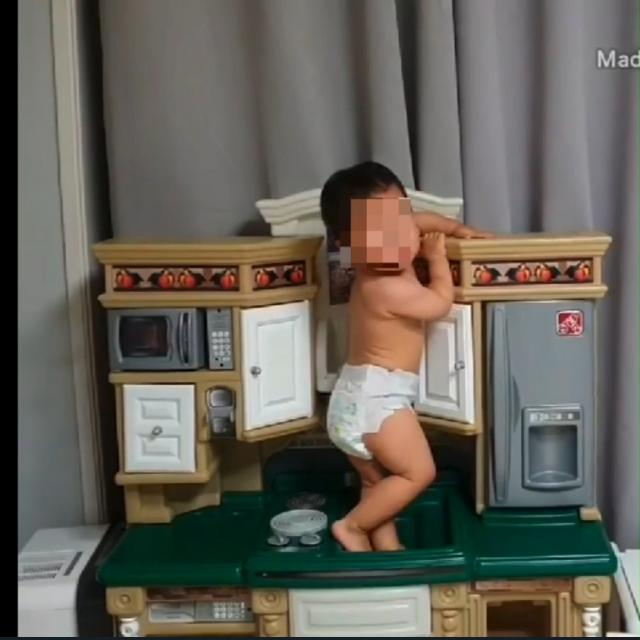child: (313, 160, 482, 551)
